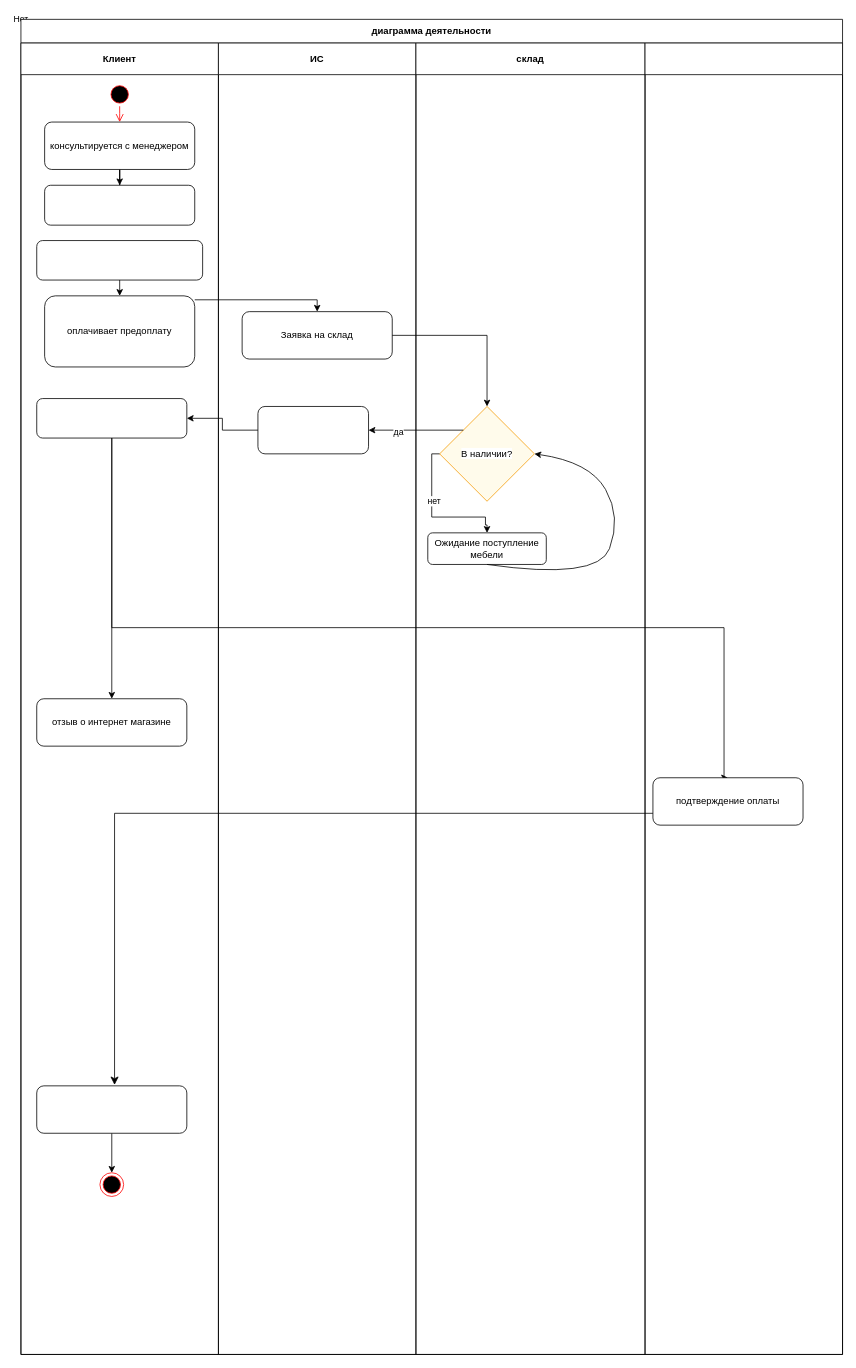
The diagram is 856 pixels wide and 1368 high, and some of its shapes have lost their labels. The box of each missing label's shape, as (x1, y1, x2, y2) in pixels:
выбирает мебель: (44, 184, 195, 225)
Закрытие сделки: (36, 1085, 187, 1133)
оплата: (644, 42, 843, 1354)
Оплата от клиента: (36, 398, 187, 438)
оформляет заказ: (36, 240, 203, 280)
подтверждение наличие товара: (257, 406, 369, 454)
